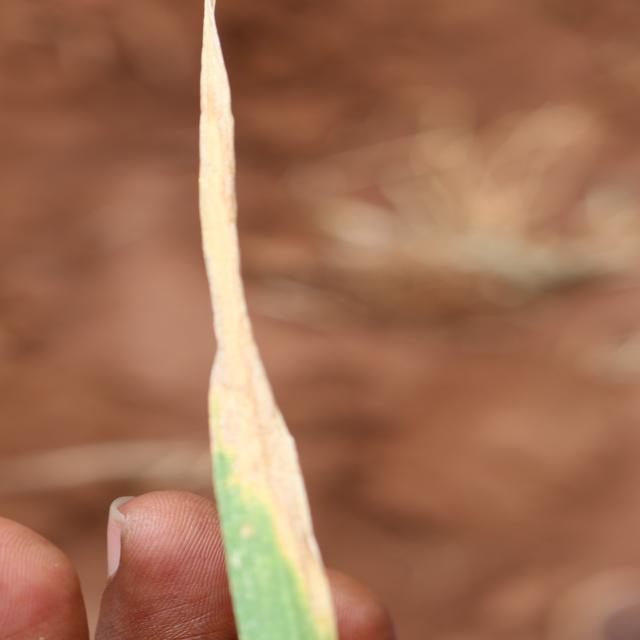Septoria: (199, 2, 240, 344), (263, 475, 331, 628), (212, 359, 276, 466)
